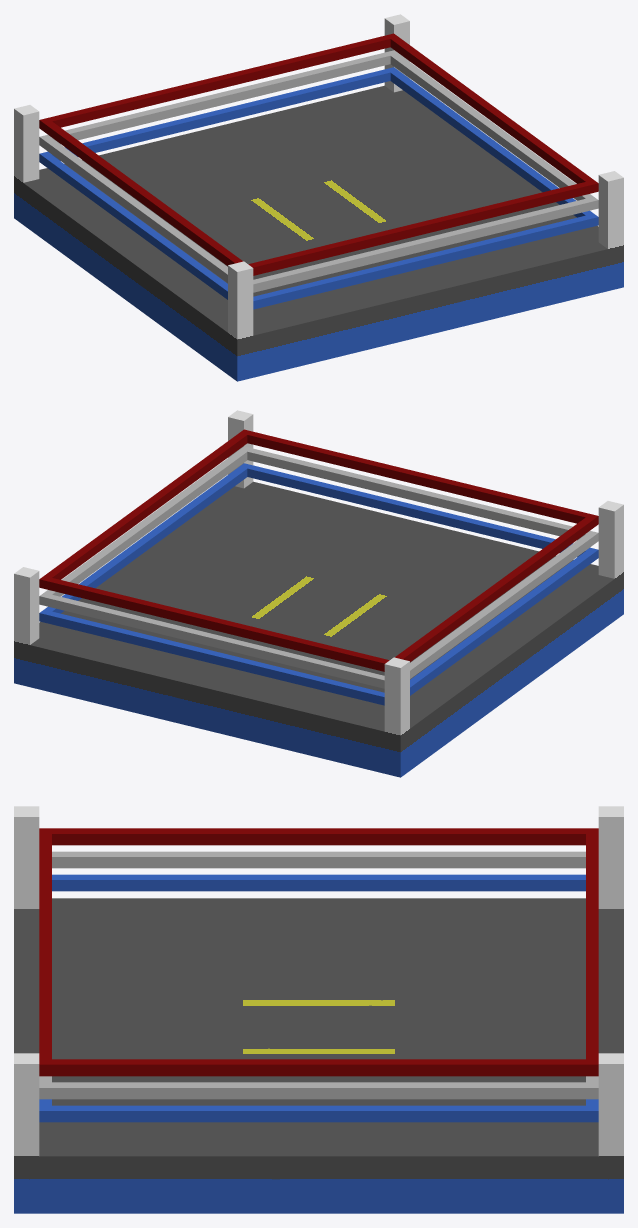
File: obj_boxingring.fbx
The picture shows the model from 3 angles, top to bottom: view 1: azimuth 30°, elevation 25°; view 2: azimuth 150°, elevation 25°; view 3: azimuth 270°, elevation 25°; orthographic projection. The views are drawn at different scales.
Visible parts, largest first — view 1: obj_boxingring; view 2: obj_boxingring; view 3: obj_boxingring.
Boxes of the visible parts, <box> form: obj_boxingring: <box>14,14,623,381</box>; obj_boxingring: <box>14,410,623,777</box>; obj_boxingring: <box>14,806,623,1213</box>.
Bounding box in the file's own units: 4.8 × 4.8 × 1.3.
1 material, 1 textured.
